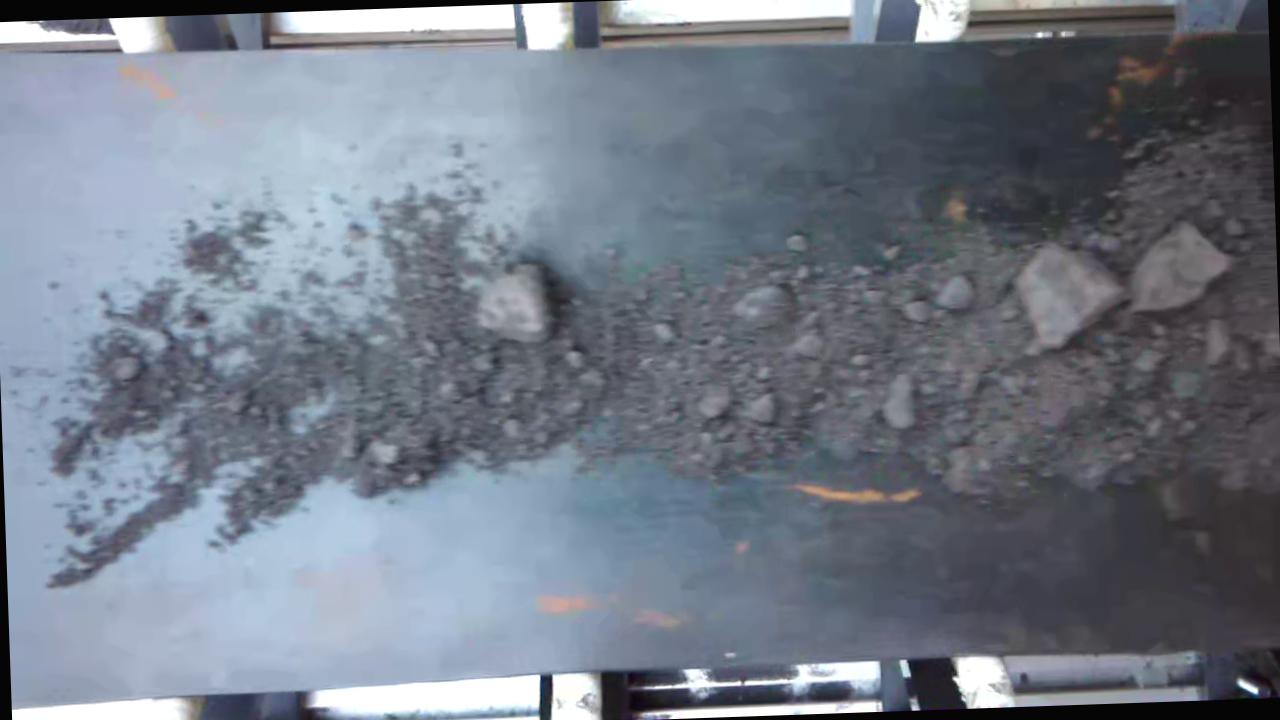conveyor: (1, 39, 1280, 686)
